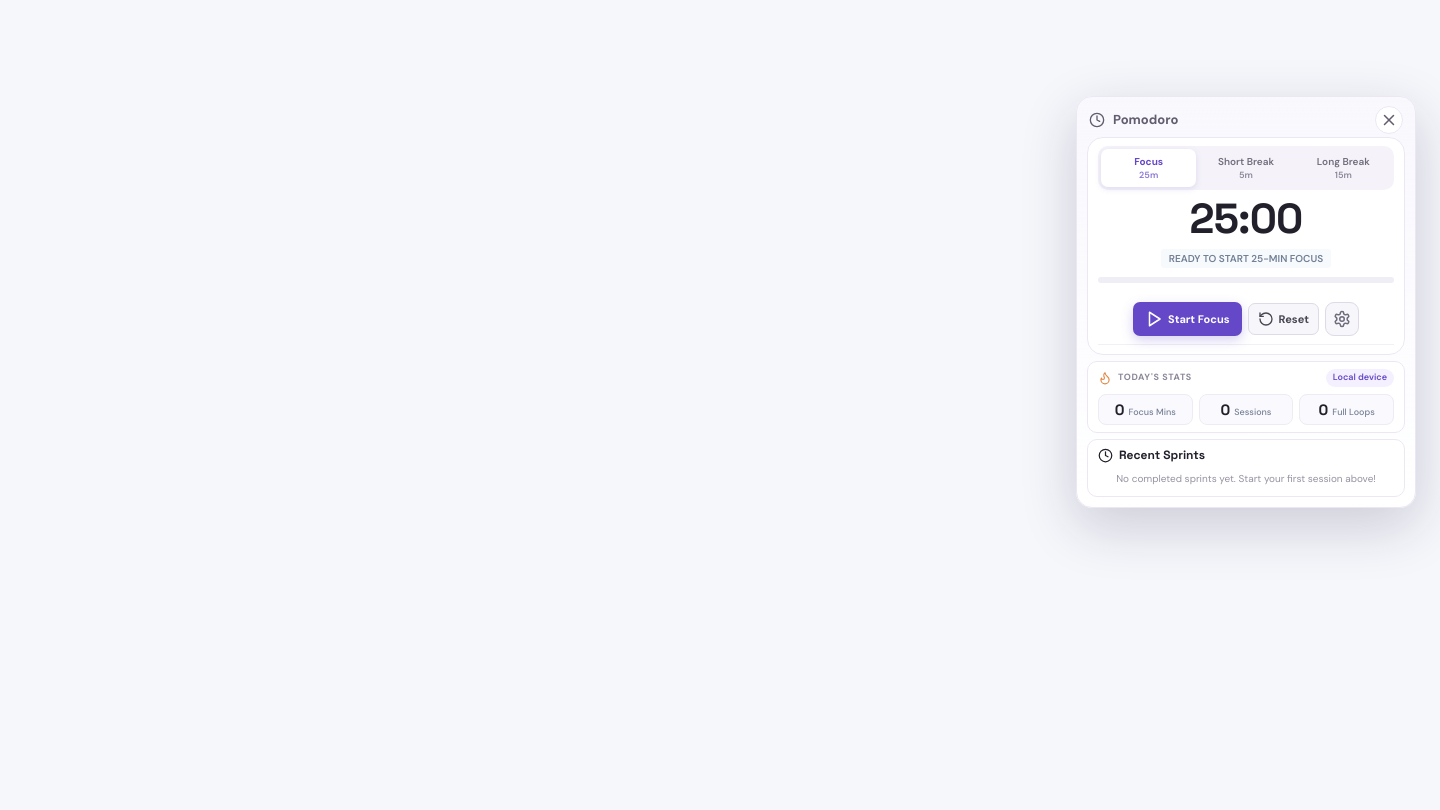
Test case: LivePomodoroSection Component (Guest Unauthenticated Experience) › resets the timer back to mode duration
Click the button "Start Focus".
click(1187, 319)  # box [1133, 302, 1242, 336]
Wait 10000 ms
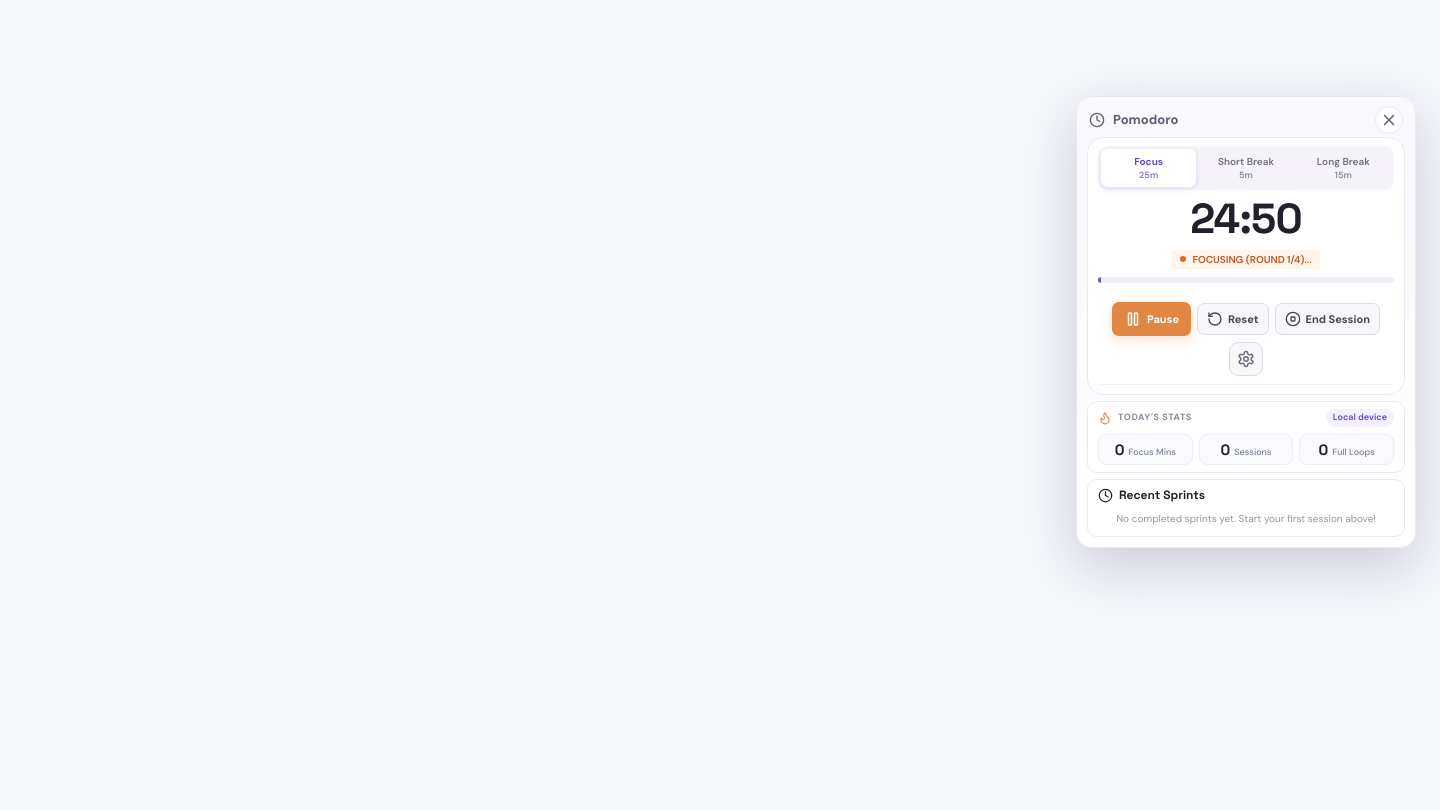
Now the text "24:50" is shown, box [1190, 192, 1302, 245]
Click the button "Reset".
click(1233, 319)  # box [1197, 303, 1268, 335]
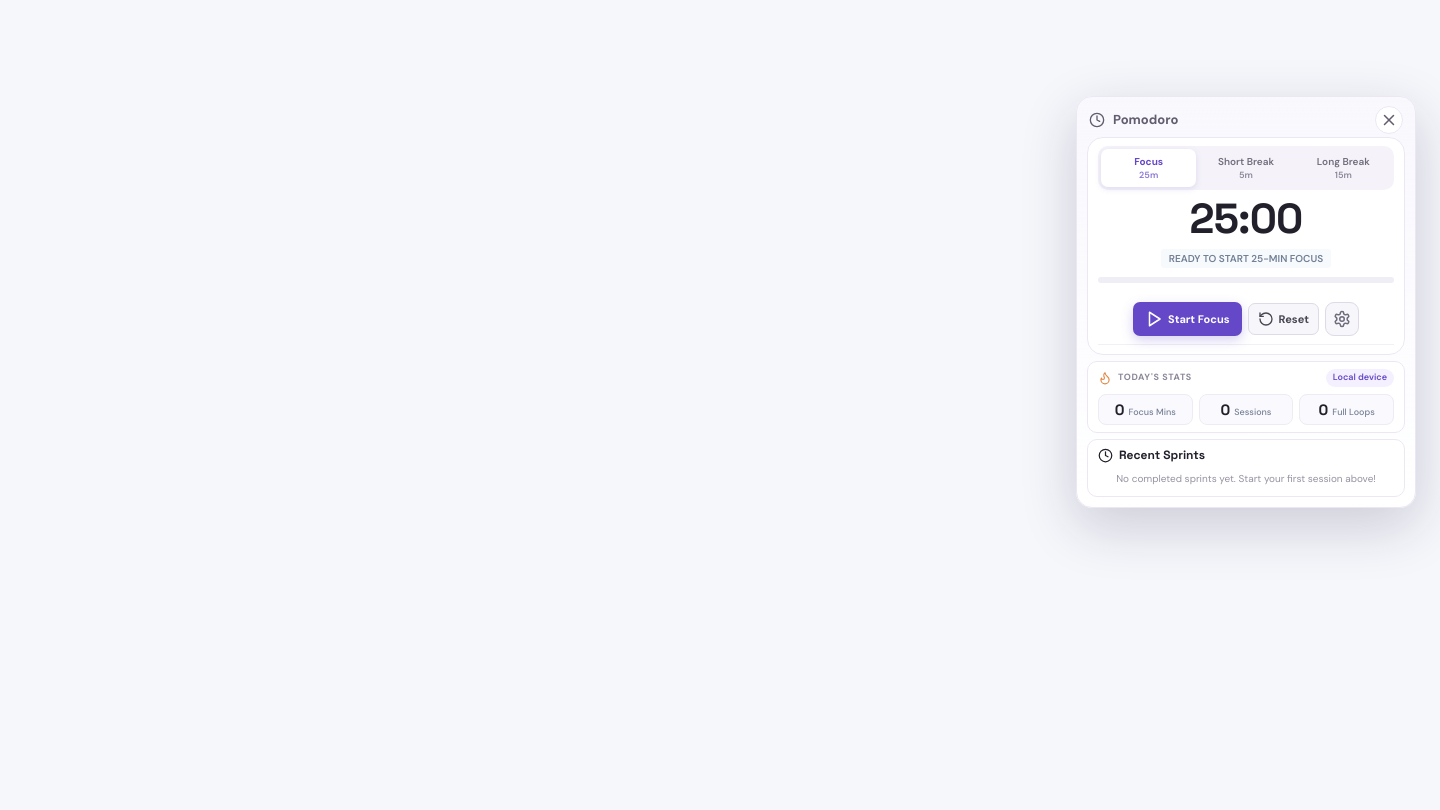
Now the text "25:00" is shown, box [1190, 192, 1302, 245]
Now the button "Start Focus" is shown, box [1133, 302, 1242, 336]
